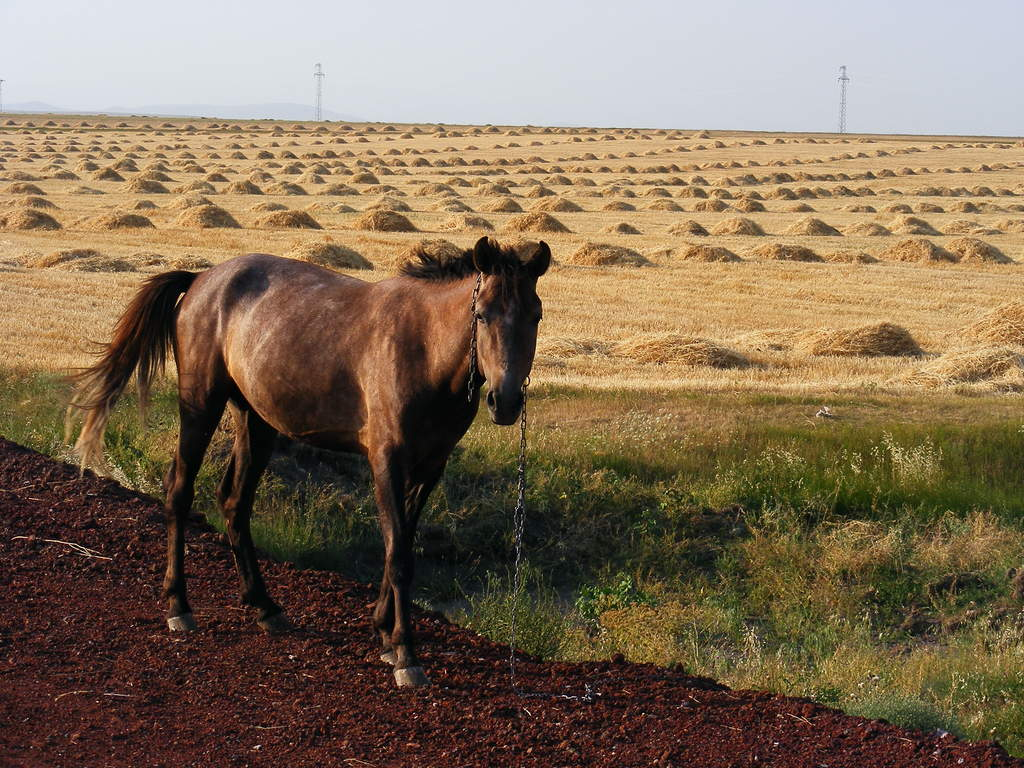horse: (58, 236, 552, 695)
